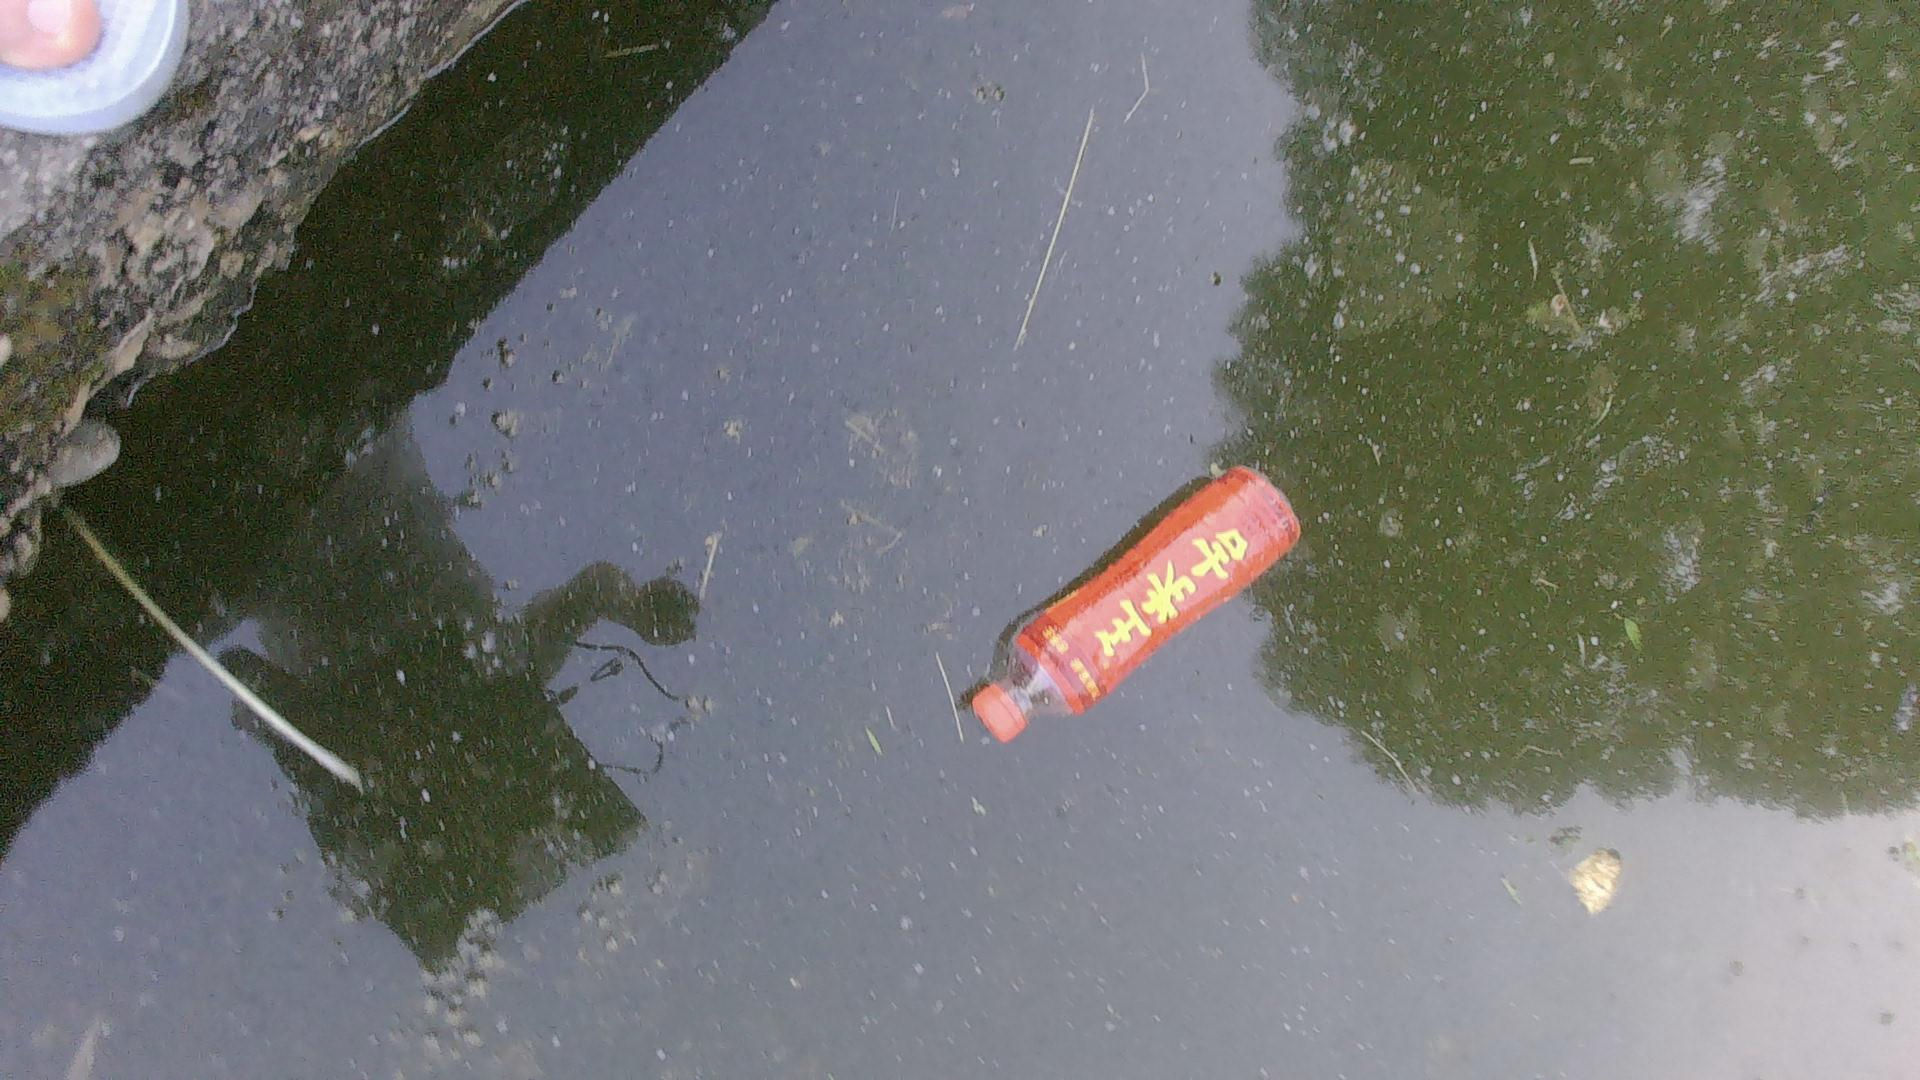Plastic: (953, 462, 1307, 750)
